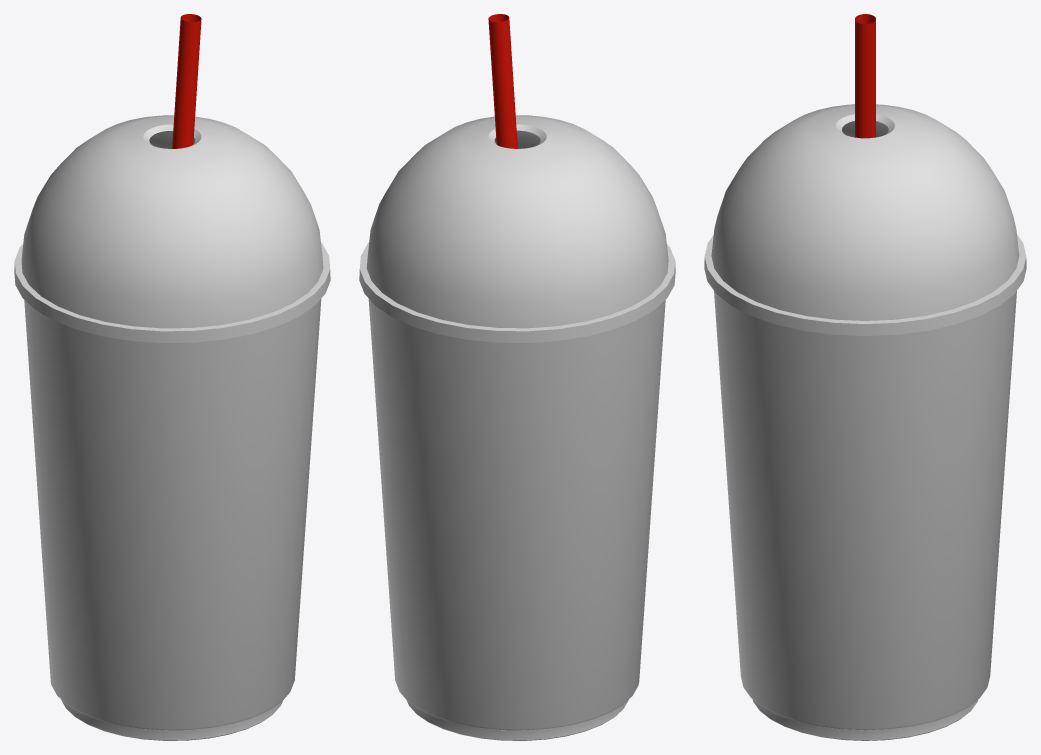
File: Plastic Cup.fbx
The picture shows the model from 3 angles, left to right: view 1: azimuth 30°, elevation 25°; view 2: azimuth 150°, elevation 25°; view 3: azimuth 270°, elevation 25°; orthographic projection.
Visible parts, largest first — view 1: Plastic cup; view 2: Plastic cup; view 3: Plastic cup.
Boxes of the visible parts, <box> form: Plastic cup: <box>14,14,330,740</box>; Plastic cup: <box>359,14,675,740</box>; Plastic cup: <box>704,14,1026,740</box>.
Size of the model in its own units: 18.2 by 42.54 by 18.2.
